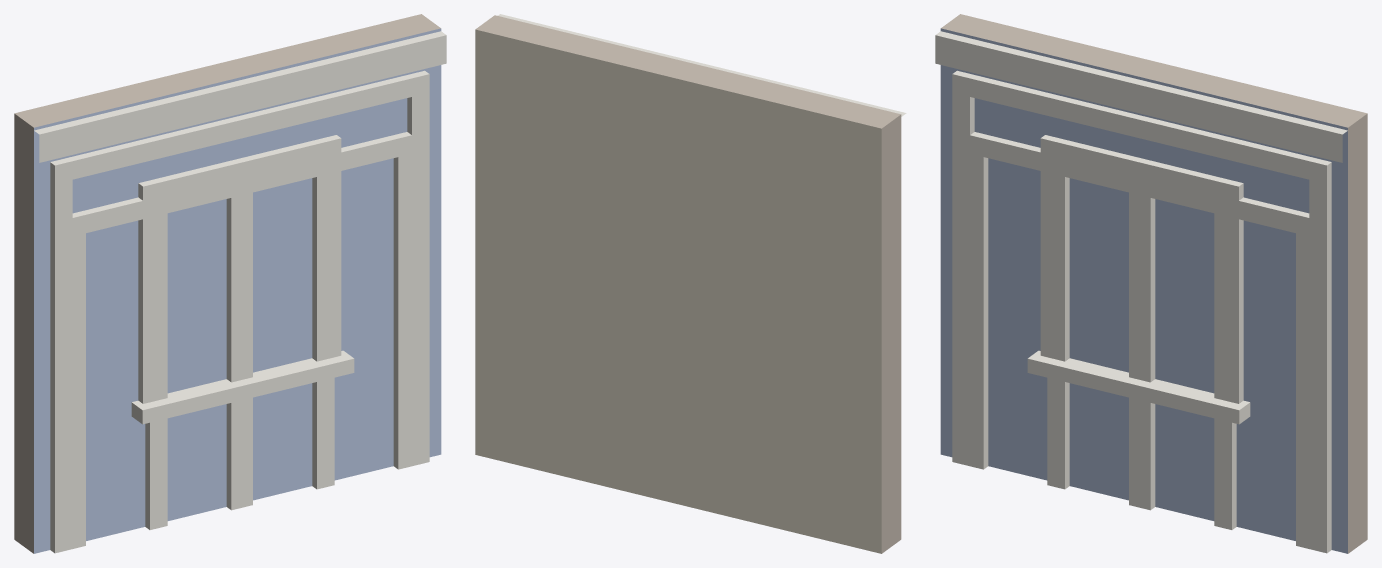
Rendered from toon_city_kit_twins.glb.
3 renders of one model, left to right at view 1: azimuth 30°, elevation 25°; view 2: azimuth 150°, elevation 25°; view 3: azimuth 330°, elevation 25°, orthographic.
Visible parts, largest first — view 1: bluecrete_wallB_solid.001, bluecrete_wallB_window.001, bluecrete_wallB_door_L.001, bluecrete_wallB_door_C.001, bluecrete_wallB_door_R.001, bluecrete_wallB_wide.001; view 2: bluecrete_wallB_solid.001, bluecrete_wallB_window.001, bluecrete_wallB_door_R.001, bluecrete_wallB_door_L.001, bluecrete_wallB_door_C.001, bluecrete_wallB_wide.001; view 3: bluecrete_wallB_solid.001, bluecrete_wallB_door_C.001, bluecrete_wallB_door_L.001, bluecrete_wallB_window.001, bluecrete_wallB_wide.001, bluecrete_wallB_door_R.001.
Part boxes in pixels (x1,y1,x2,y2): bluecrete_wallB_solid.001: (14, 14, 446, 553); bluecrete_wallB_window.001: (14, 15, 441, 552); bluecrete_wallB_door_L.001: (14, 14, 441, 553); bluecrete_wallB_door_C.001: (14, 16, 441, 553); bluecrete_wallB_door_R.001: (14, 15, 441, 548); bluecrete_wallB_wide.001: (14, 15, 441, 553); bluecrete_wallB_solid.001: (475, 14, 906, 553); bluecrete_wallB_window.001: (475, 16, 901, 553); bluecrete_wallB_door_R.001: (475, 15, 901, 553); bluecrete_wallB_door_L.001: (475, 15, 901, 553); bluecrete_wallB_door_C.001: (475, 16, 901, 550); bluecrete_wallB_wide.001: (475, 23, 901, 547); bluecrete_wallB_solid.001: (935, 14, 1367, 553); bluecrete_wallB_door_C.001: (940, 15, 1367, 552); bluecrete_wallB_door_L.001: (940, 14, 1367, 553); bluecrete_wallB_window.001: (940, 14, 1367, 552); bluecrete_wallB_wide.001: (940, 16, 1367, 553); bluecrete_wallB_door_R.001: (940, 15, 1367, 553).
Size of the model in its own units: 3 by 3 by 0.39.
